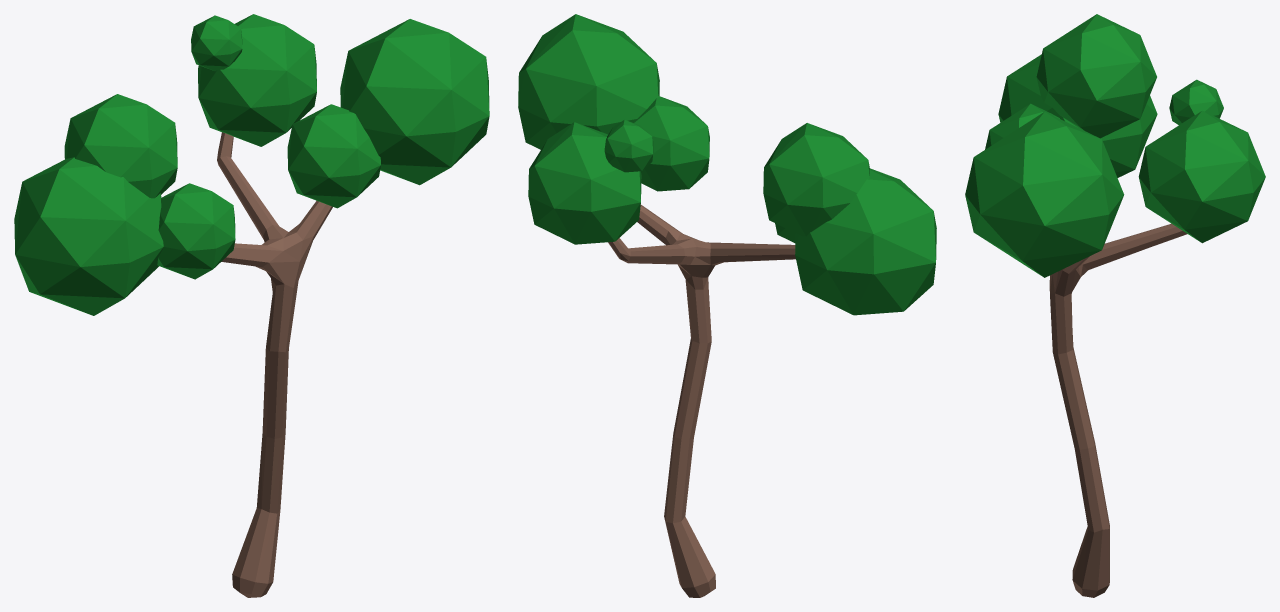
Rendered from tree1.fbx.
3 views of the same model, side by side, from view 1: azimuth 30°, elevation 25°; view 2: azimuth 150°, elevation 25°; view 3: azimuth 270°, elevation 25° (orthographic). The views are drawn at different scales.
Parts seen in each view (by area): view 1: Cube; view 2: Cube; view 3: Cube.
Part boxes in pixels (box(x1,y1,x2,y2)): Cube: box(14, 14, 489, 597); Cube: box(518, 14, 936, 597); Cube: box(965, 14, 1265, 597).
Size of the model in its own units: 1075 by 1240 by 629.
